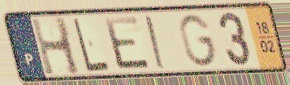3: (218, 10, 253, 68)
E: (101, 15, 153, 72)
G: (177, 12, 219, 68)
H: (29, 15, 84, 79)
I: (143, 14, 168, 71)
L: (71, 16, 112, 74)
